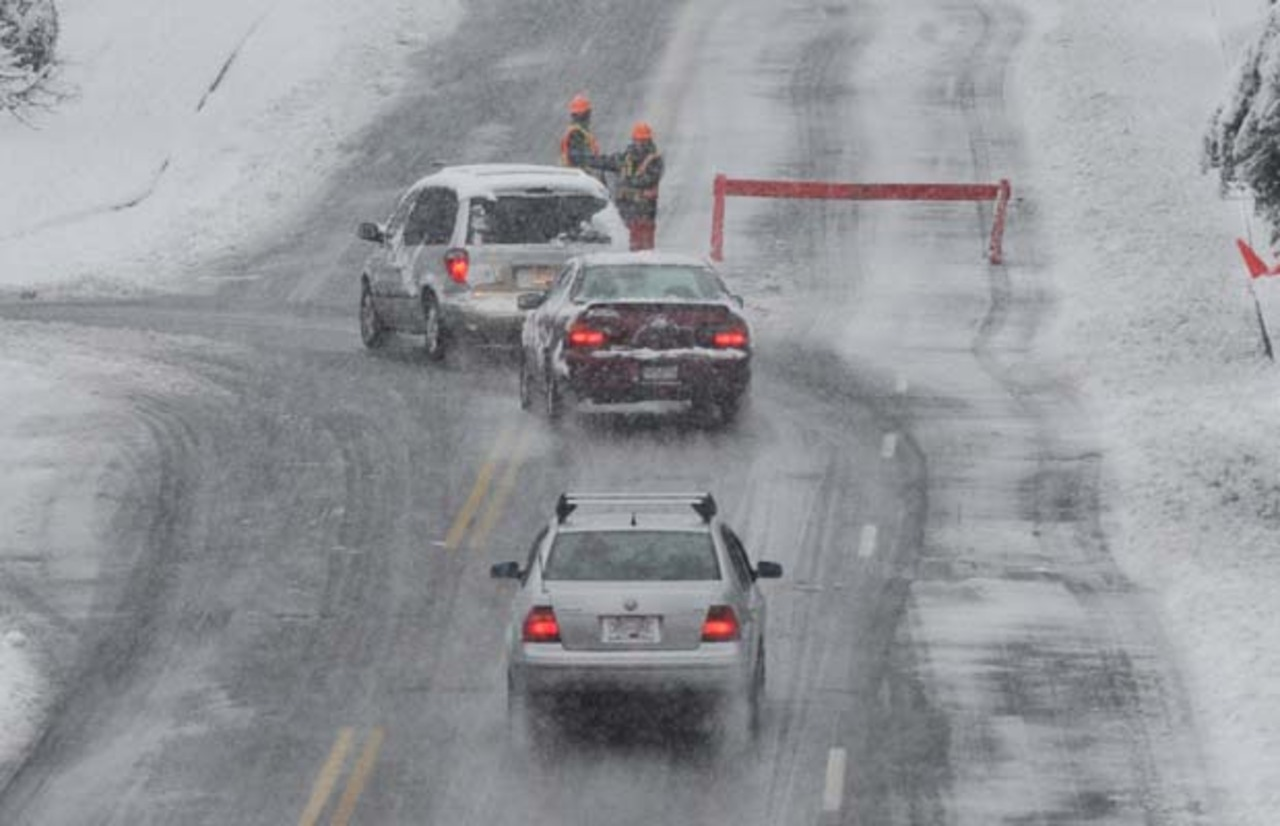car: (509, 494, 767, 755), (346, 163, 627, 363), (506, 253, 756, 436)
person: (617, 120, 654, 248), (562, 95, 603, 182)
